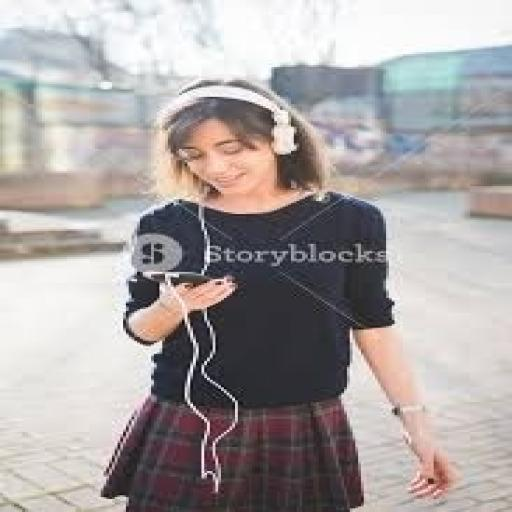listening_to_music: (98, 76, 464, 510)
